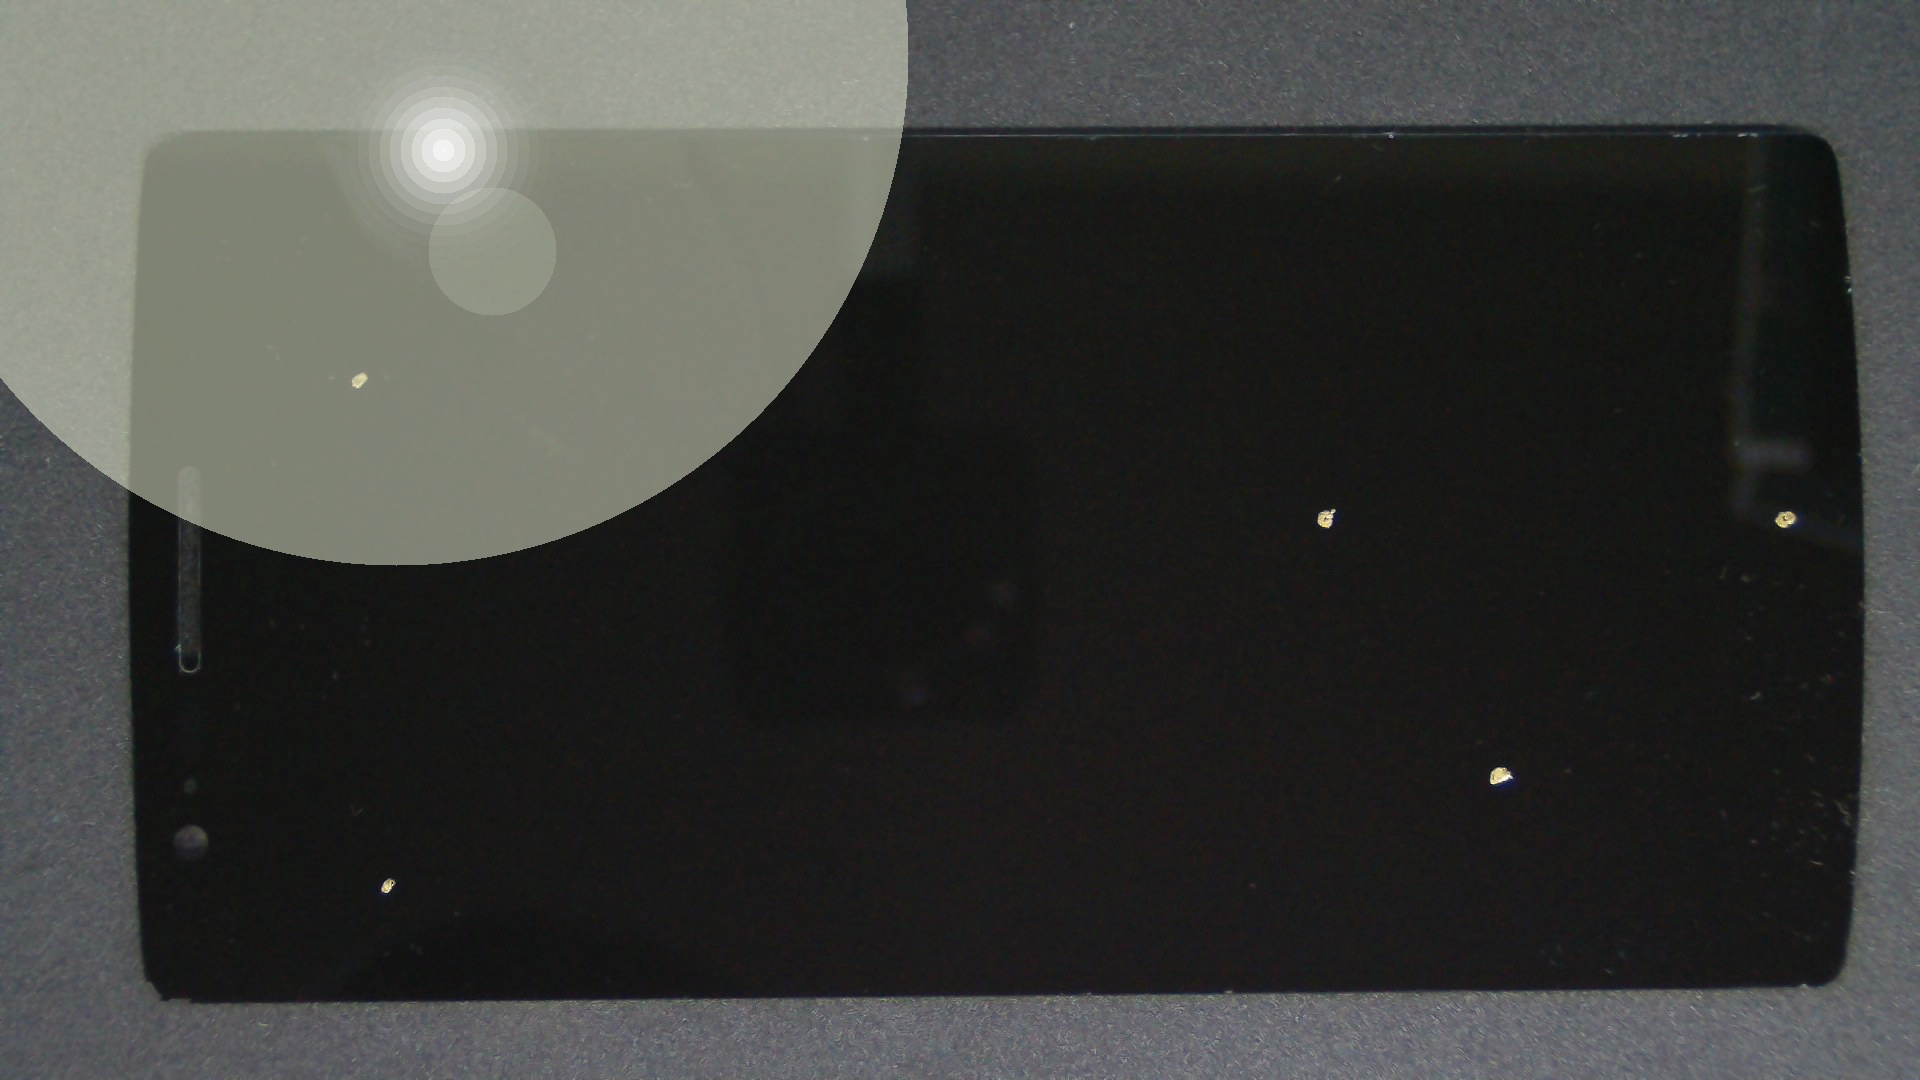oil: (753, 381, 1920, 1080), (665, 253, 1920, 761), (895, 255, 1920, 764), (196, 436, 582, 1080), (186, 181, 537, 560)
